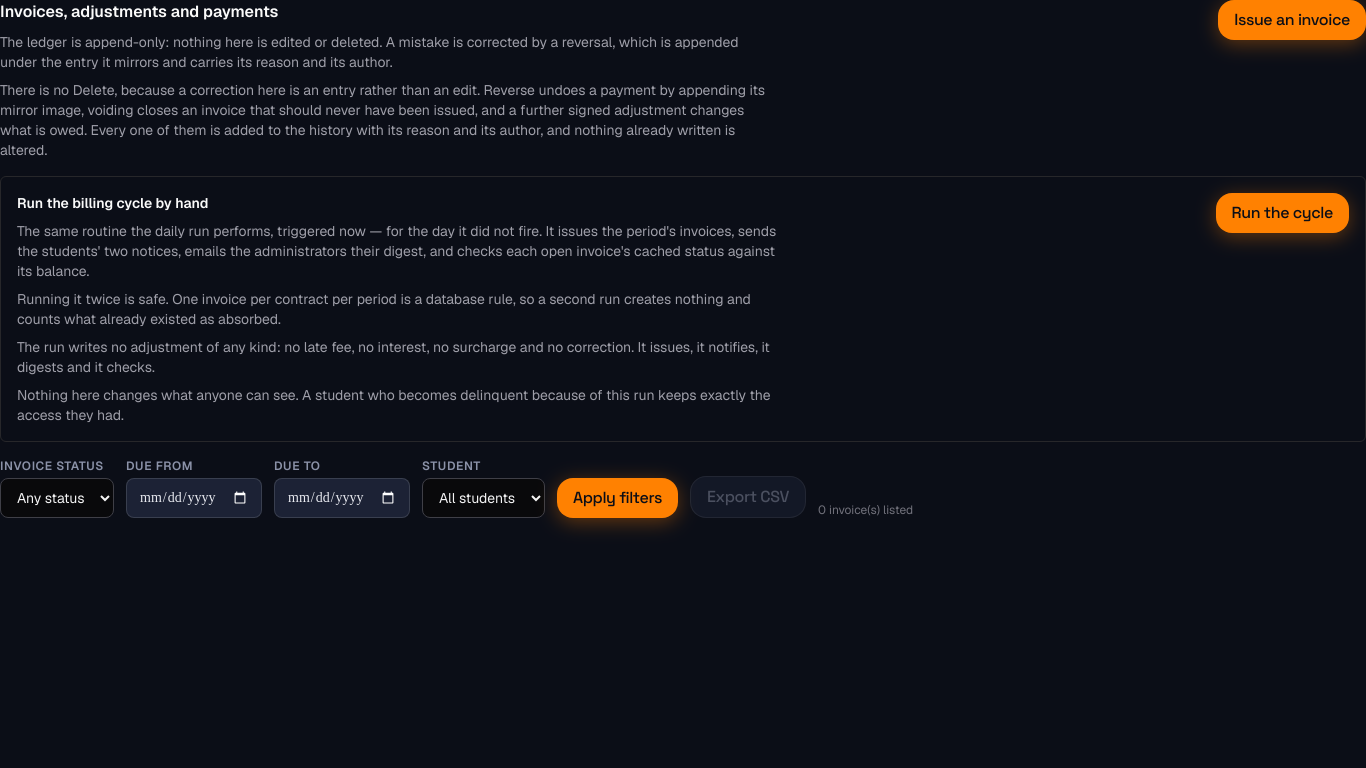
Test: LedgerTab › opens the issue form from the tab header
This screenshot has width=1366, height=768.
Click the button with aria-label "Issue an invoice for a contract period". click: (1292, 20)
box: x1=1218 y1=0 x2=1365 y2=40
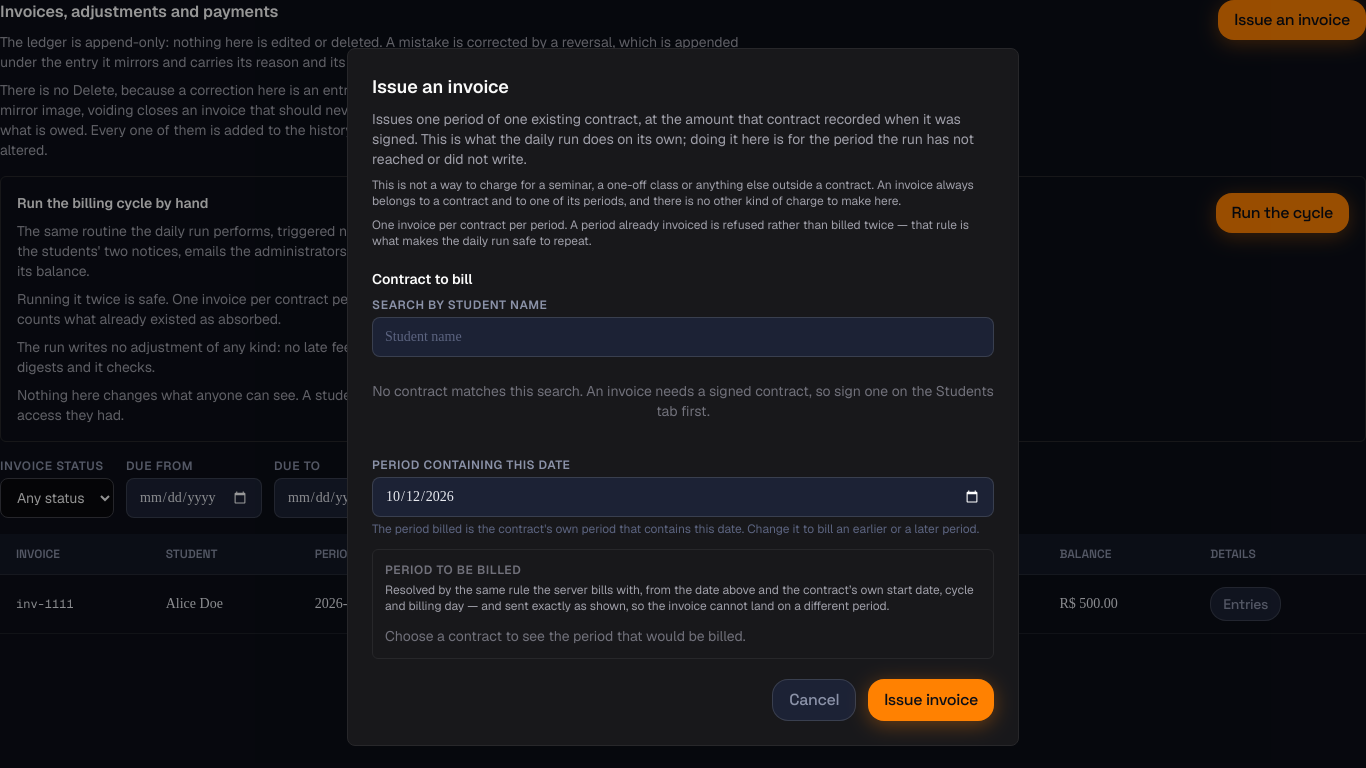
Expected: the dialog "Issue an invoice" is shown
